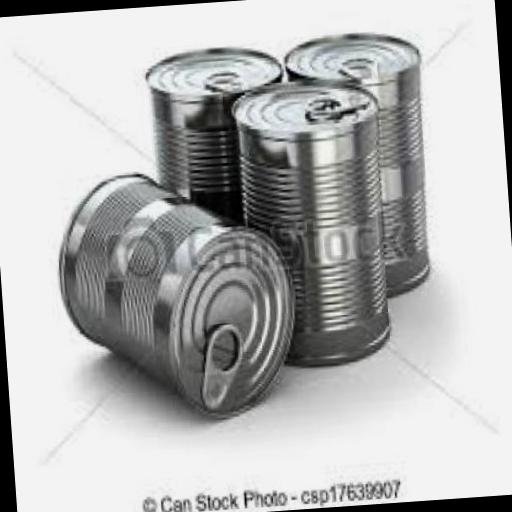metal: (49, 161, 302, 428), (225, 70, 394, 372), (279, 28, 430, 300), (141, 44, 292, 230)
